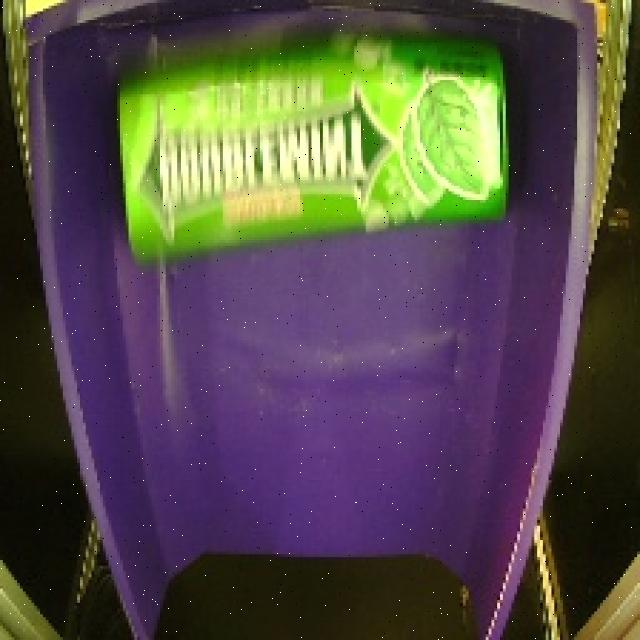metal: (106, 27, 523, 284)
